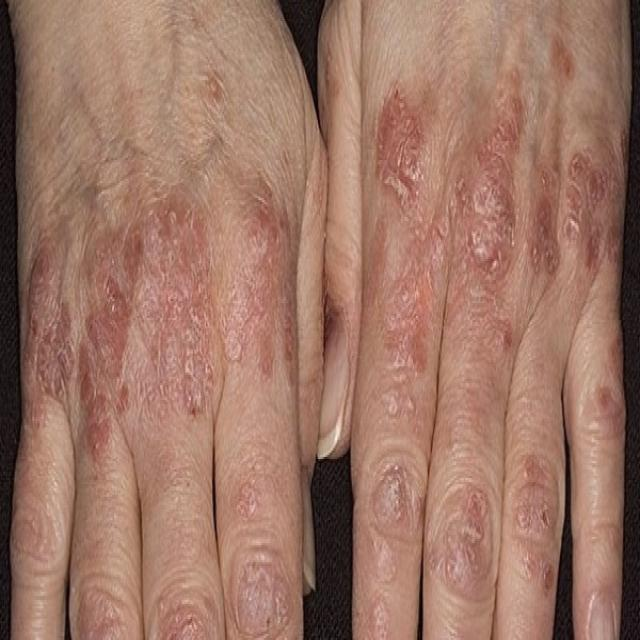Psoriasis Pustulosa: (10, 0, 323, 638), (318, 0, 629, 638)
